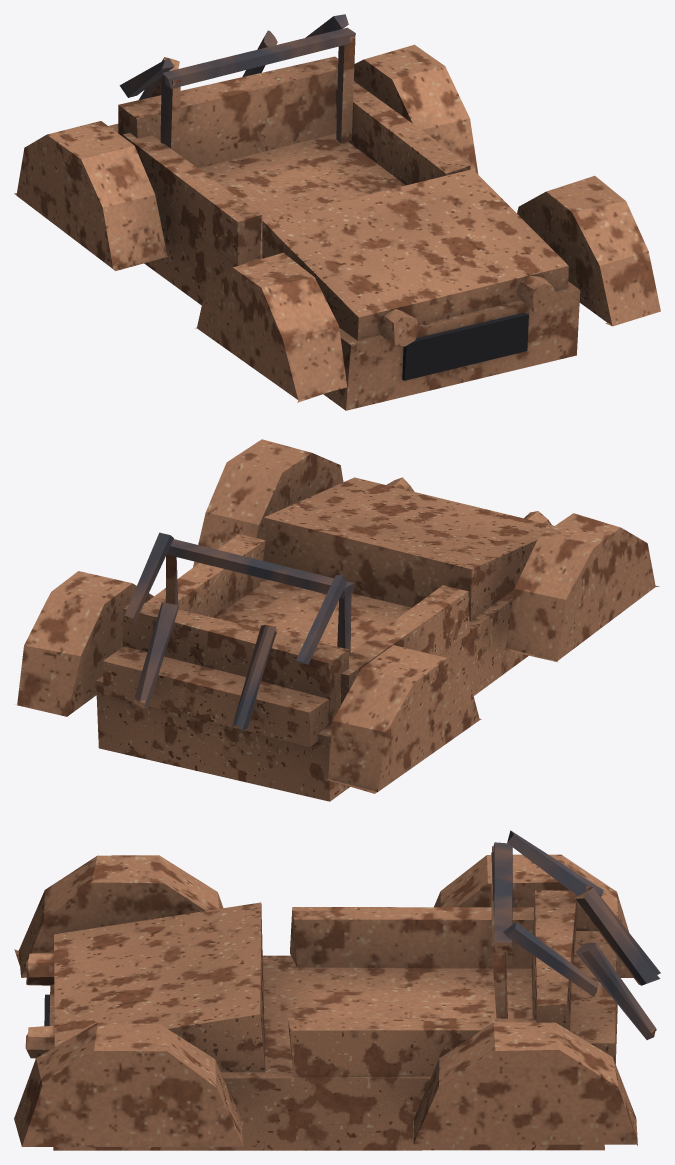
Rendered from BuggyBody.fbx.
3 views of the same model, one above another, from view 1: azimuth 30°, elevation 25°; view 2: azimuth 150°, elevation 25°; view 3: azimuth 270°, elevation 25° (orthographic). The views are drawn at different scales.
Visible parts, largest first — view 1: BuggyBody; view 2: BuggyBody; view 3: BuggyBody.
Part boxes in pixels (x1=…): BuggyBody: x1=14, y1=14, x2=660, y2=410; BuggyBody: x1=17, y1=439, x2=659, y2=801; BuggyBody: x1=14, y1=830, x2=660, y2=1150.
Size of the model in its own units: 8.04 by 4.02 by 11.13.
Materials: 1 (1 with a texture image).
